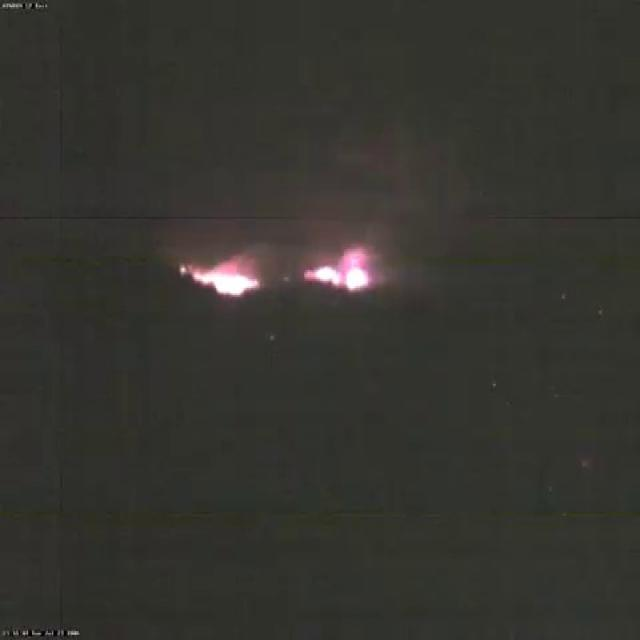Fire: (176, 260, 264, 294), (302, 250, 374, 288)
